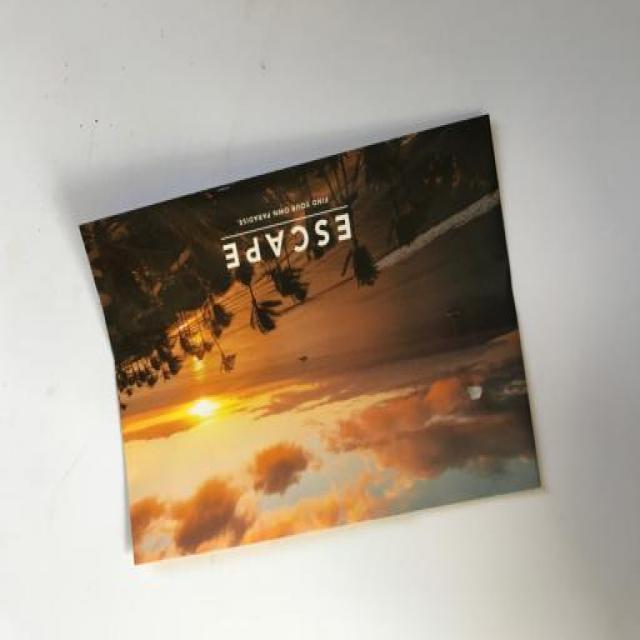paper: (73, 106, 548, 558)
